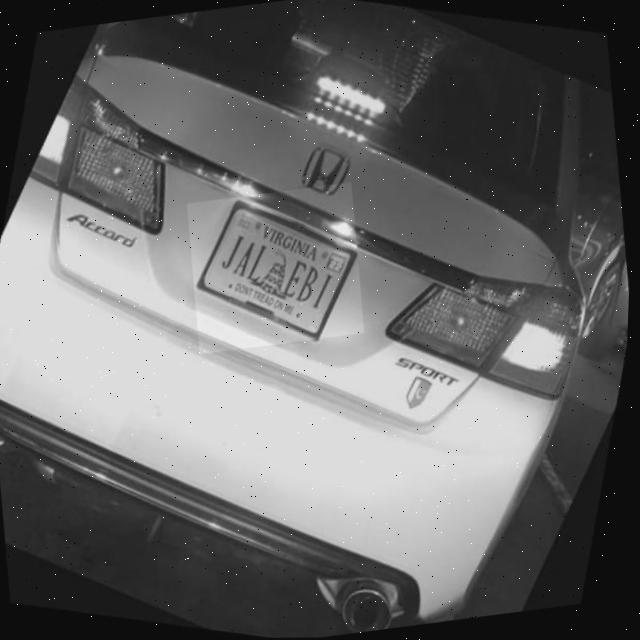LicensePlate: (196, 198, 359, 339)
